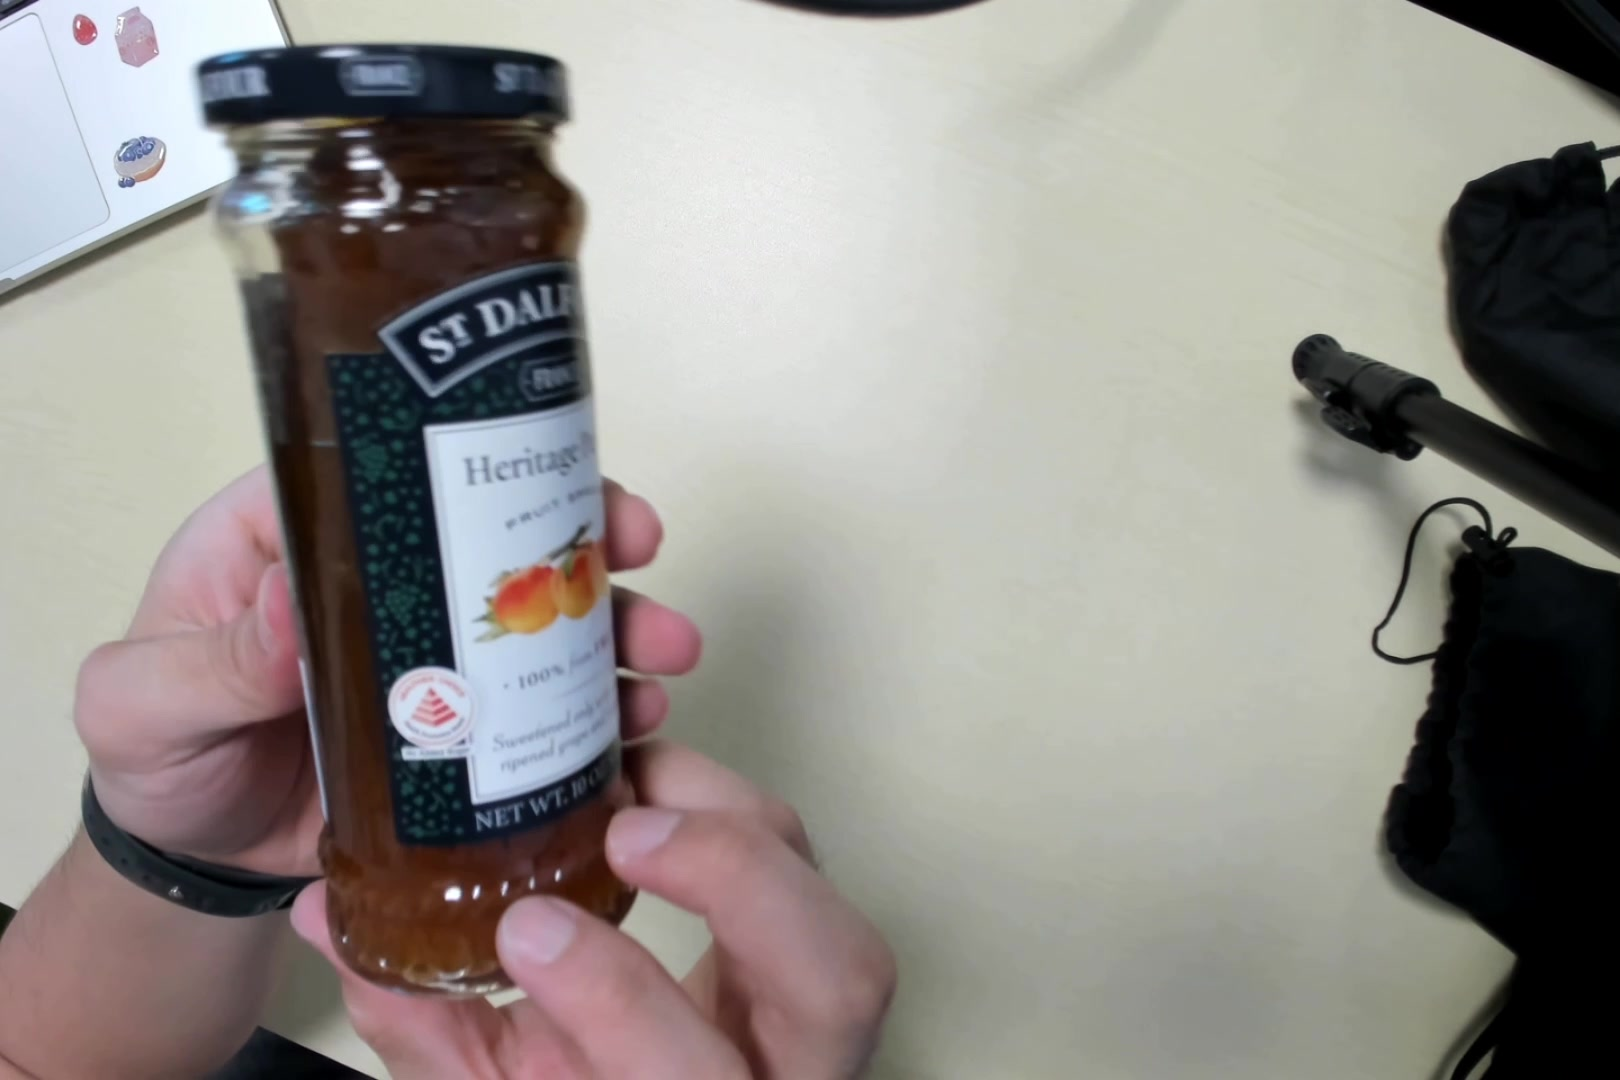Jam_200-299g_Halal_Healthy: (206, 52, 645, 1000)
